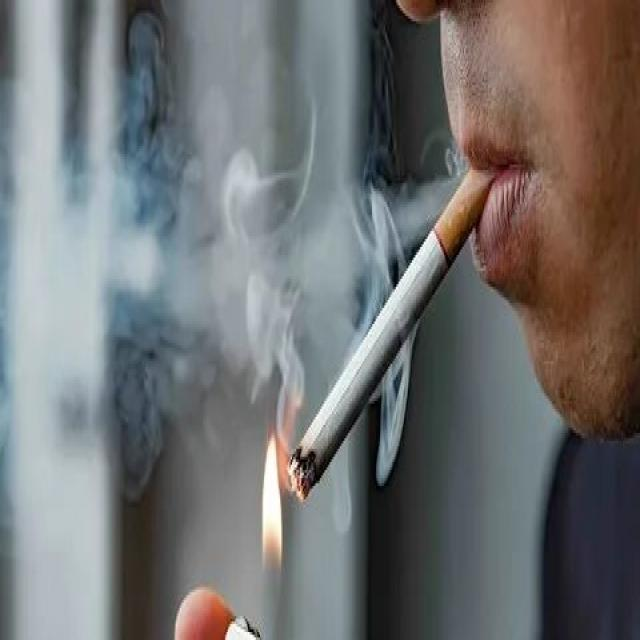smoke: (283, 165, 497, 507)
